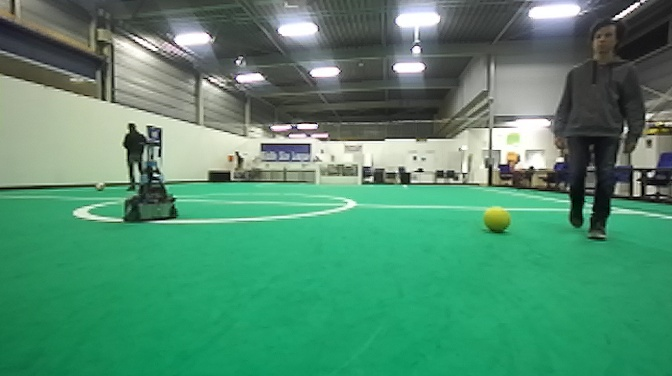ball: (481, 203, 514, 235), (92, 178, 107, 190)
goal: (315, 161, 363, 188)
goalpost: (356, 161, 362, 187), (315, 161, 321, 184)
human: (549, 19, 646, 243), (119, 119, 152, 192)
robot: (122, 140, 178, 223)
